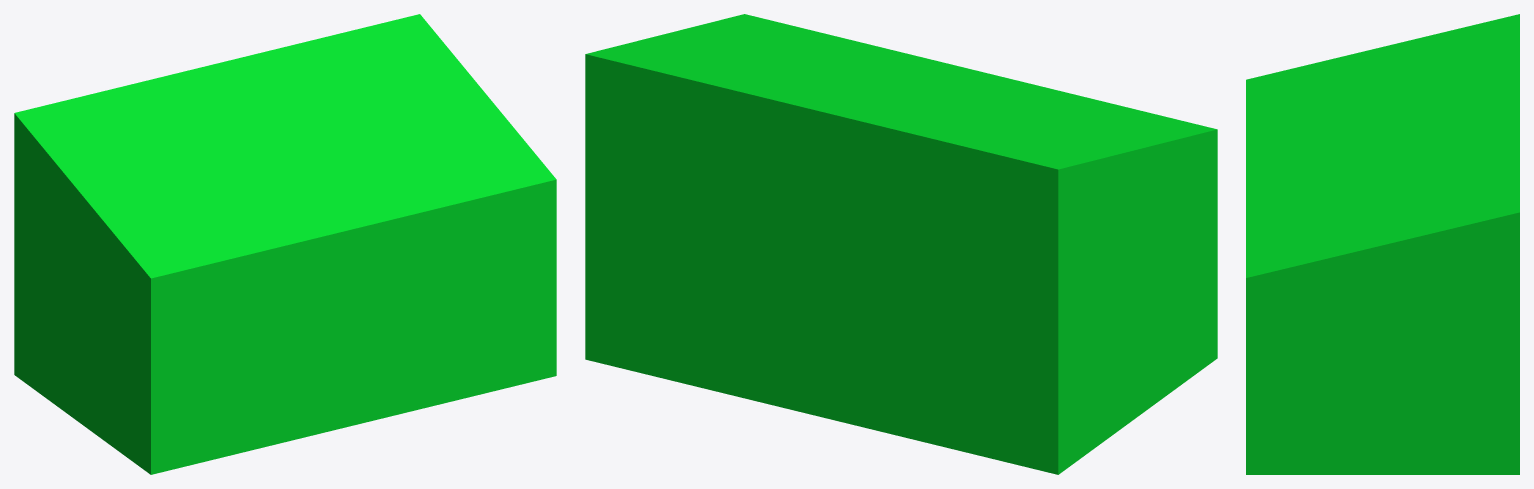
The model's file is dor.glb.
The picture shows the model from 3 angles, left to right: view 1: azimuth 30°, elevation 25°; view 2: azimuth 150°, elevation 25°; view 3: azimuth 270°, elevation 25°; orthographic projection. The views are drawn at different scales.
Parts seen in each view (by area): view 1: doors.002; view 2: doors.002; view 3: doors.002.
Part boxes in pixels (x1,y1,x2,y2): doors.002: (14, 14, 556, 474); doors.002: (585, 14, 1217, 474); doors.002: (1246, 14, 1519, 474).
Bounding box in the file's own units: 5.04 × 3.11 × 2.94.
